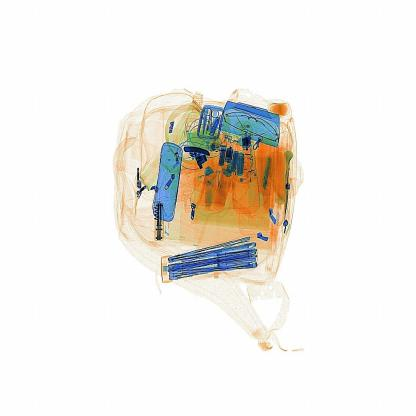scissors: (151, 192, 169, 248)
